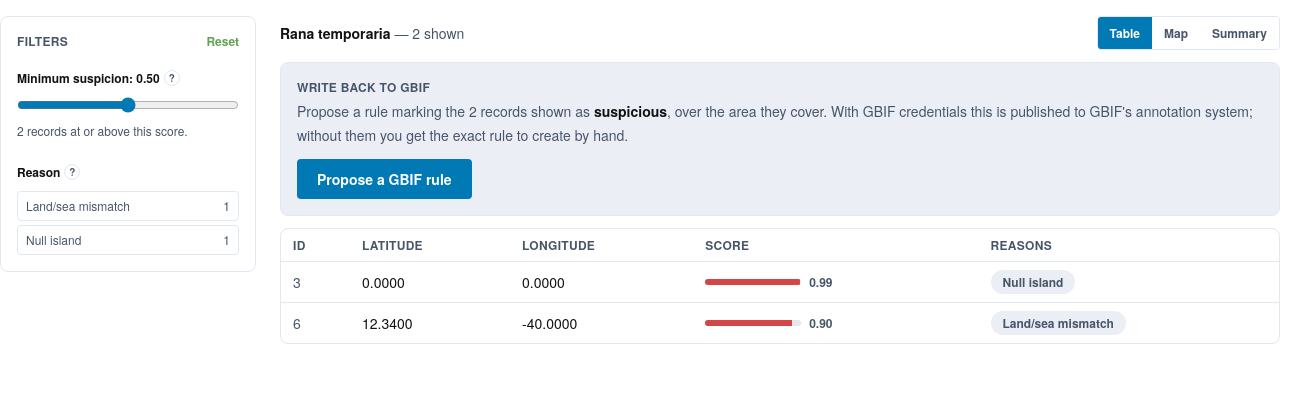
Test case: RecordsExplorer write-back › proposes a rule over the filtered records and shows the published result
The width and height of the screenshot is (1292, 397).
Expected: the text "Write back to GBIF" is shown, [297, 78, 430, 96]
Click the button "Propose a GBIF rule" at (384, 179), box [297, 159, 472, 199]
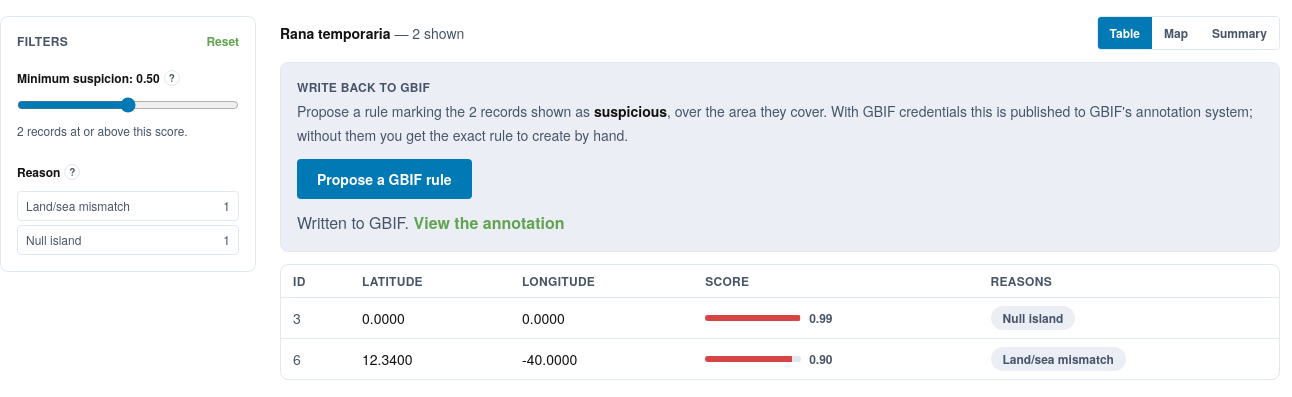
Expected: the text "Written to GBIF. View the annotation" is shown, [297, 211, 564, 234]
Expected: the link "View the annotation" is shown, [414, 211, 564, 234]
